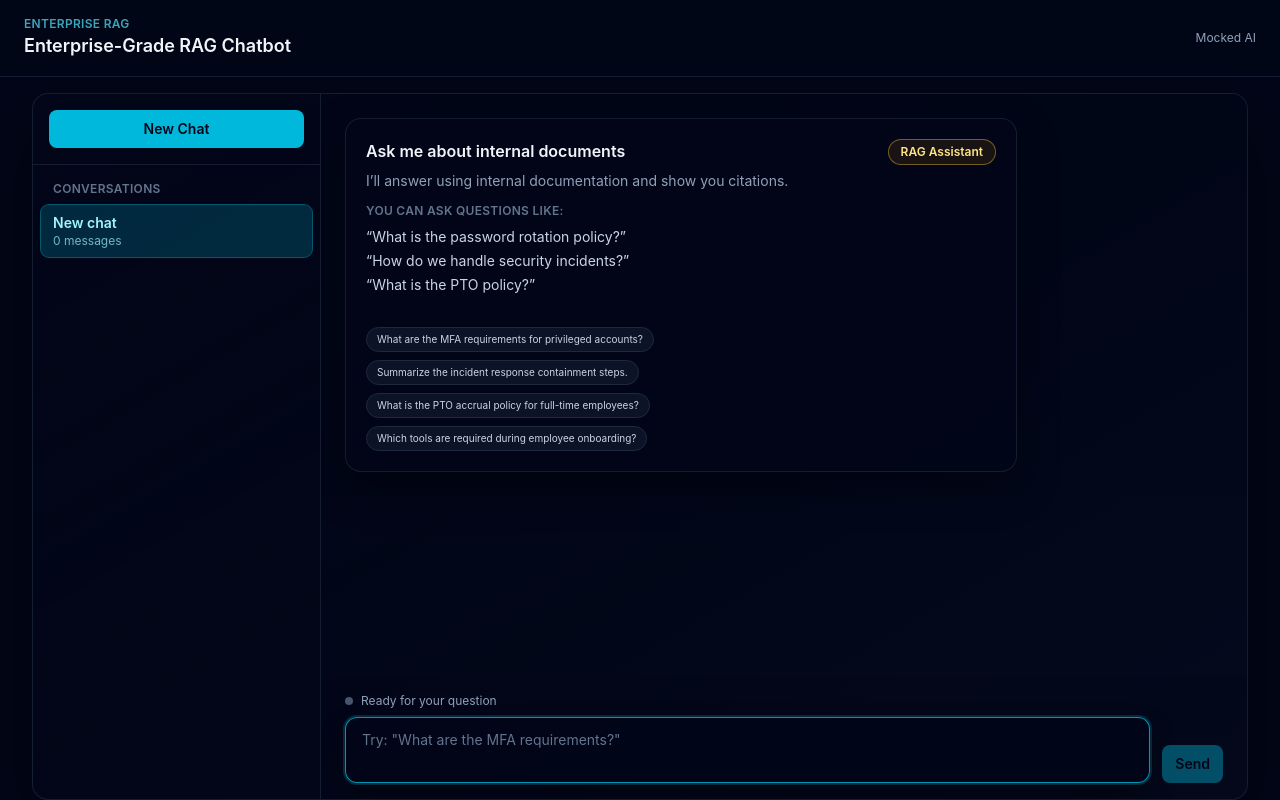
error handling › shows retry UI when the mock API fails
Type "Trigger error" into the text box named "ask a question". click: (748, 750)
box: [345,717,1150,783]
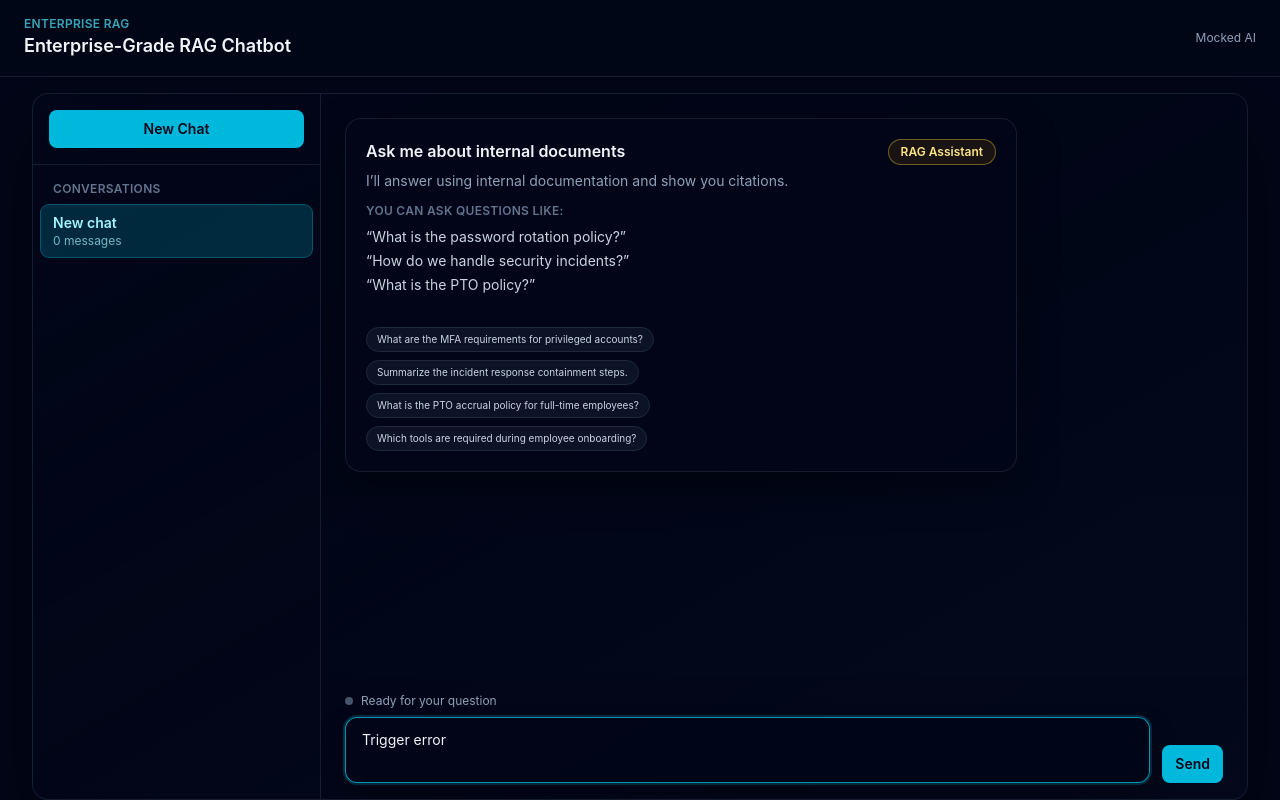
Click the button "Send". click: (1193, 764)
box: [1162,745,1223,783]
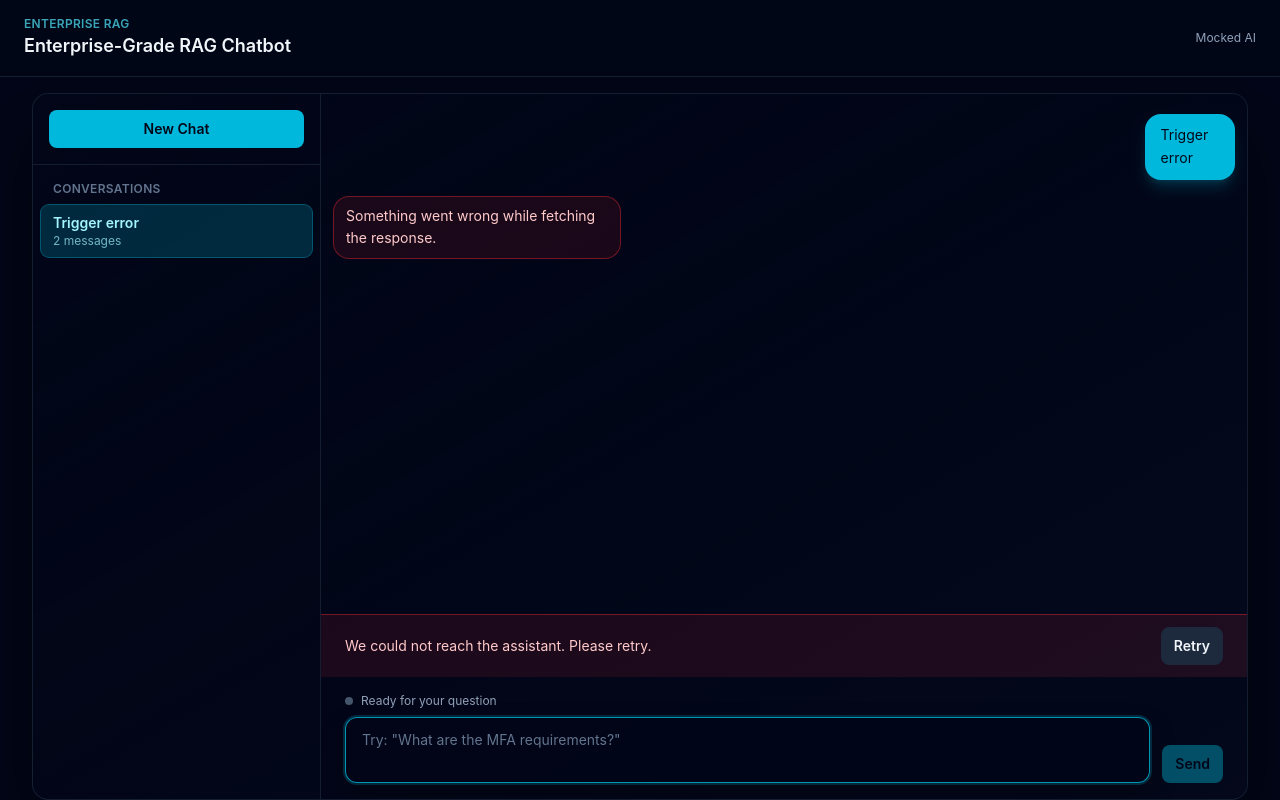
Check: the button "Retry" is shown, box [1161,627,1223,665]
